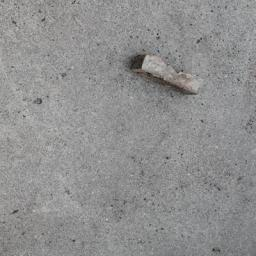FOD: (128, 52, 206, 97)
